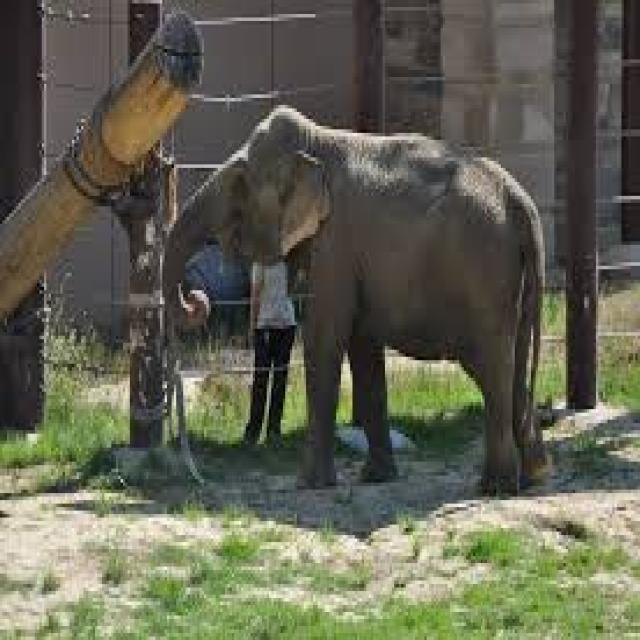Elephant: (160, 102, 547, 493)
person: (241, 252, 297, 448)
